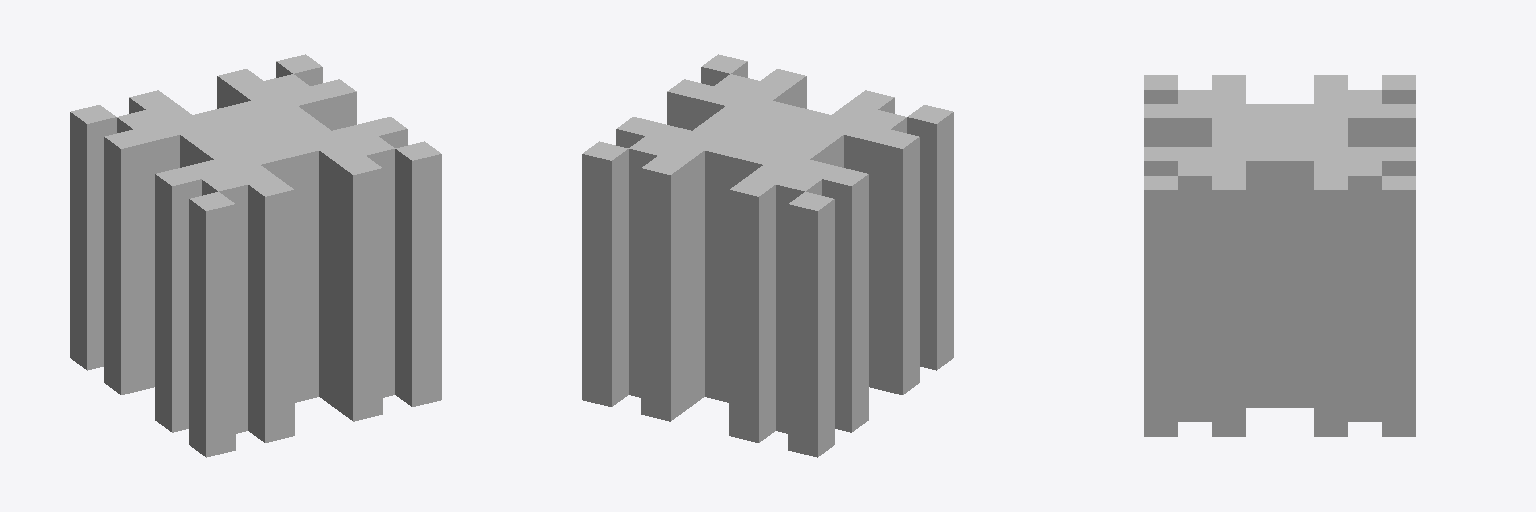
File: mruCoilHardener.obj
3 views of the same model, side by side, from view 1: azimuth 30°, elevation 25°; view 2: azimuth 150°, elevation 25°; view 3: azimuth 270°, elevation 25° (orthographic).
Visible parts, largest first — view 1: pCube1; view 2: pCube1; view 3: pCube1.
Boxes of the visible parts, box(x1,y1,x2,y2) form: pCube1: box(70, 54, 441, 457); pCube1: box(582, 54, 953, 457); pCube1: box(1144, 75, 1415, 436).
Bounding box in the file's own units: 1 × 1 × 1.